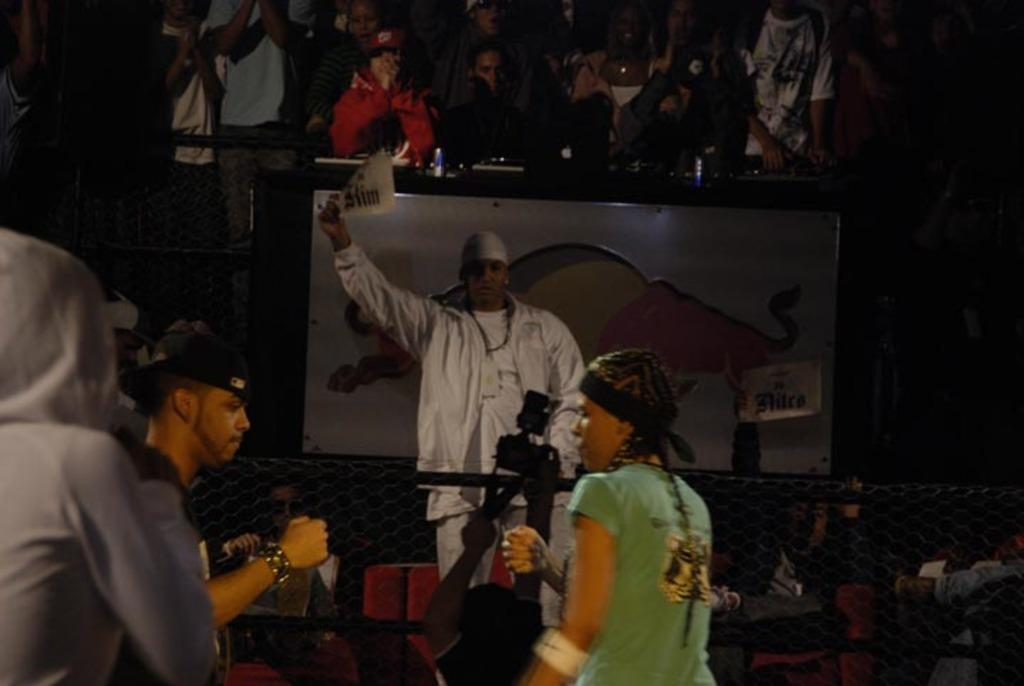Sem Máscara: (172, 0, 796, 533), (189, 378, 247, 461), (567, 395, 616, 474), (466, 260, 503, 299), (476, 51, 507, 95)
